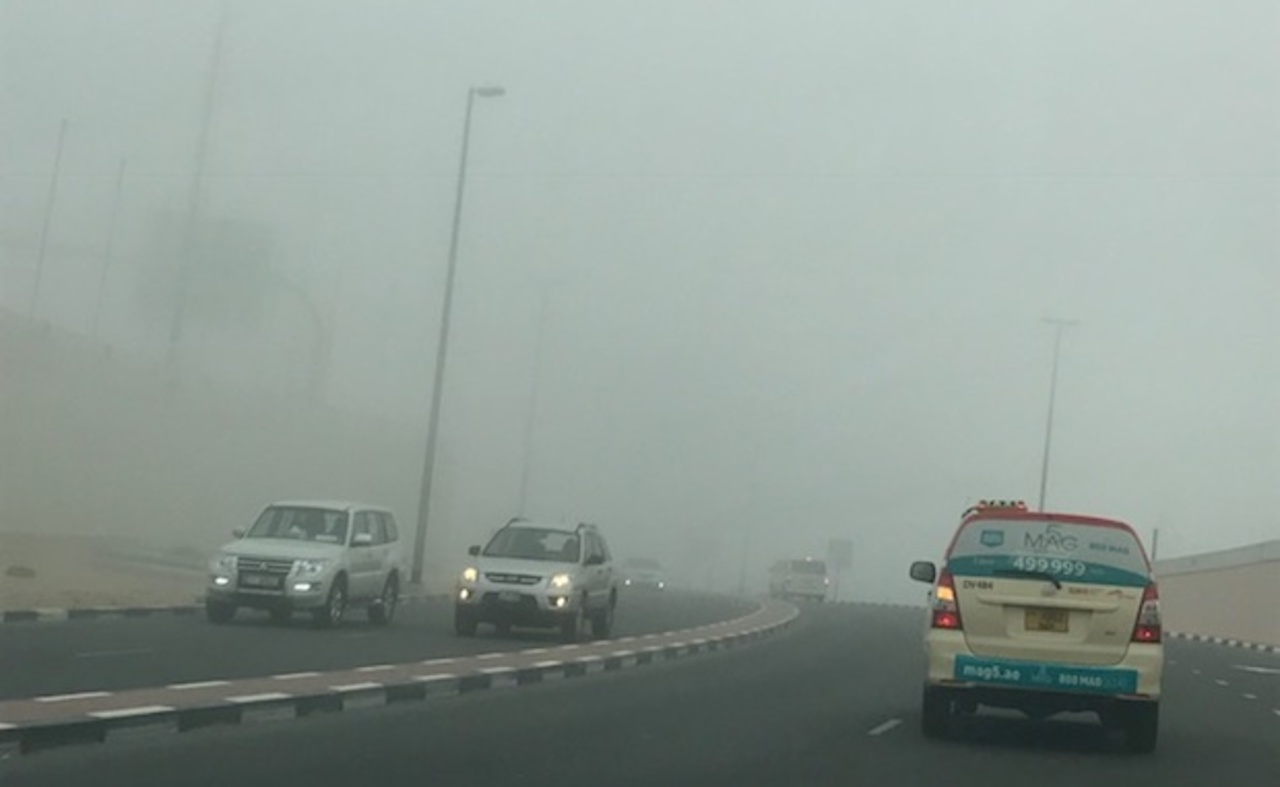car: (913, 508, 1161, 752), (208, 501, 402, 627), (455, 516, 621, 643), (763, 556, 828, 605), (618, 554, 668, 594)
